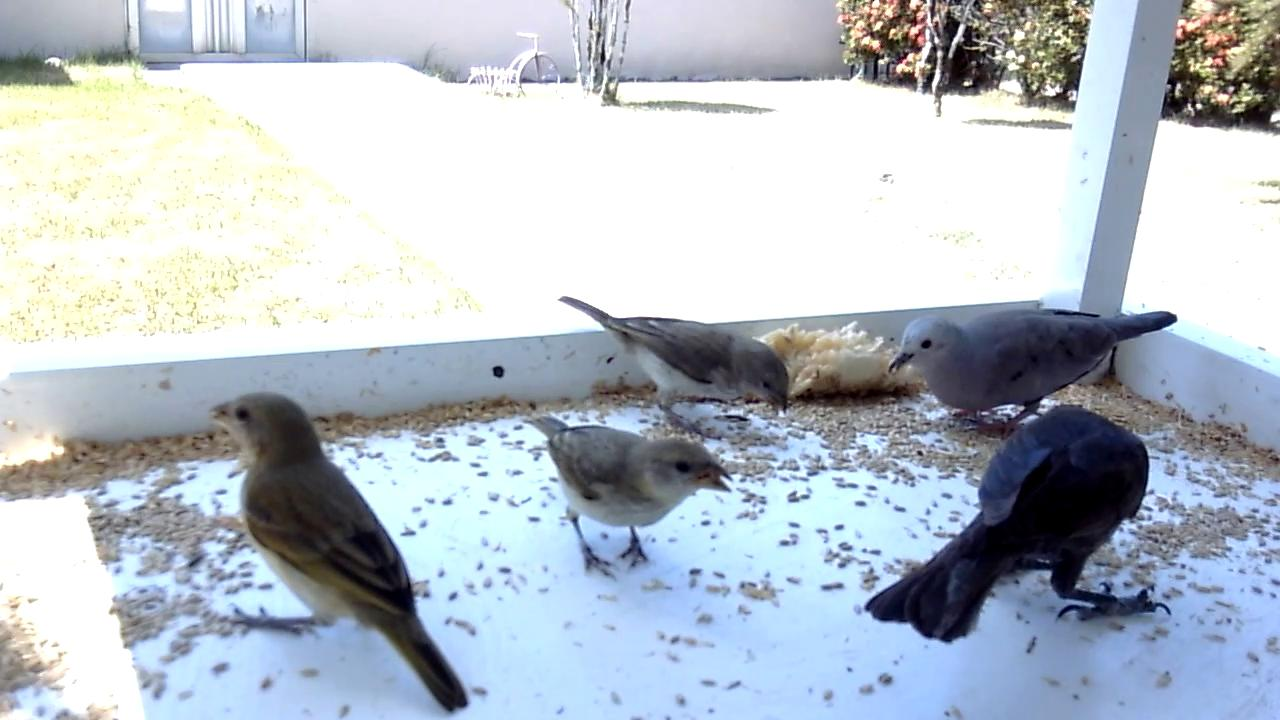canario_do_amazonas: (206, 390, 472, 716), (523, 413, 736, 584), (556, 293, 793, 441)
chupim: (864, 403, 1176, 648)
rolinha: (880, 305, 1180, 444)
